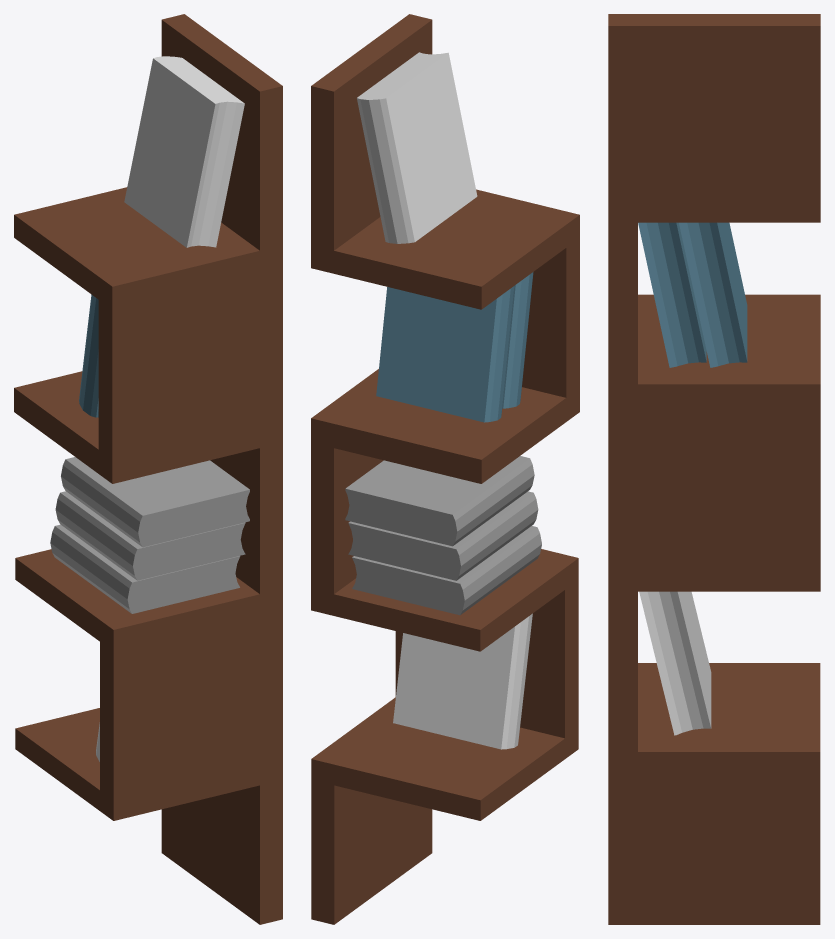
File: kitaplık2.fbx
The picture shows the model from 3 angles, left to right: view 1: azimuth 30°, elevation 25°; view 2: azimuth 150°, elevation 25°; view 3: azimuth 270°, elevation 25°; orthographic projection. The views are drawn at different scales.
Visible parts, largest first — view 1: Cube, Cube.003, Cube.001, Cube.002; view 2: Cube, Cube.003, Cube.002, Cube.001, Cube.004; view 3: Cube, Cube.002, Cube.004.
Part boxes in pixels (x1,y1,x2,y2): Cube: [14, 14, 282, 924]; Cube.003: [50, 457, 249, 613]; Cube.001: [124, 56, 244, 247]; Cube.002: [79, 294, 98, 417]; Cube: [311, 14, 579, 924]; Cube.003: [345, 456, 541, 615]; Cube.002: [376, 272, 533, 422]; Cube.001: [357, 52, 477, 243]; Cube.004: [393, 613, 532, 749]; Cube: [608, 14, 820, 924]; Cube.002: [638, 222, 747, 367]; Cube.004: [639, 591, 711, 735].
Bounding box in the file's own units: 200 × 935 × 200.
